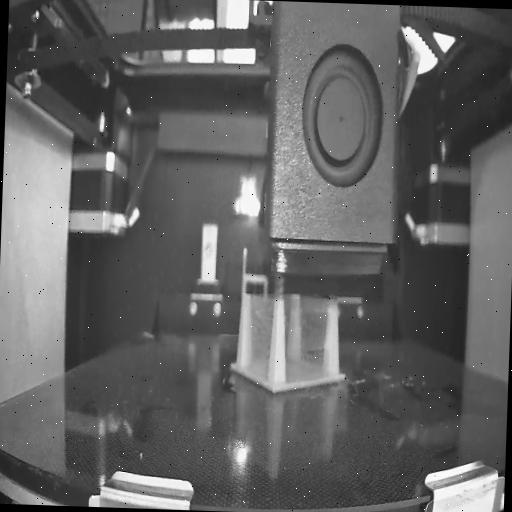stringing: (282, 294, 336, 386), (242, 292, 274, 382)
